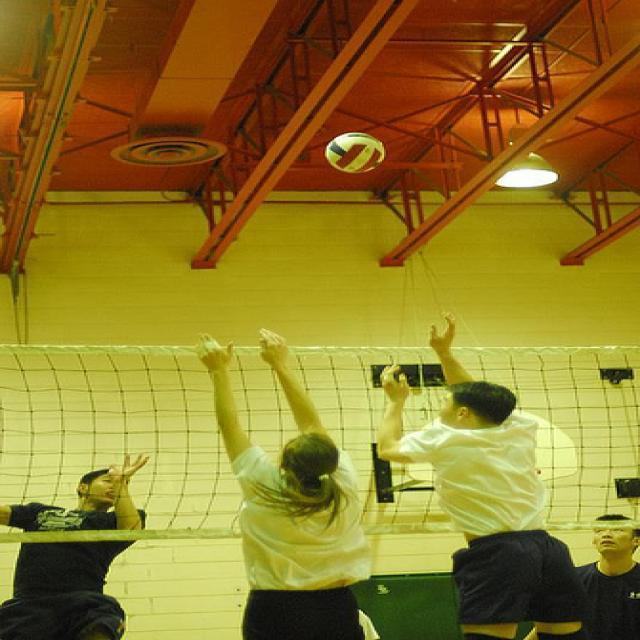volleyball: (324, 132, 386, 174)
